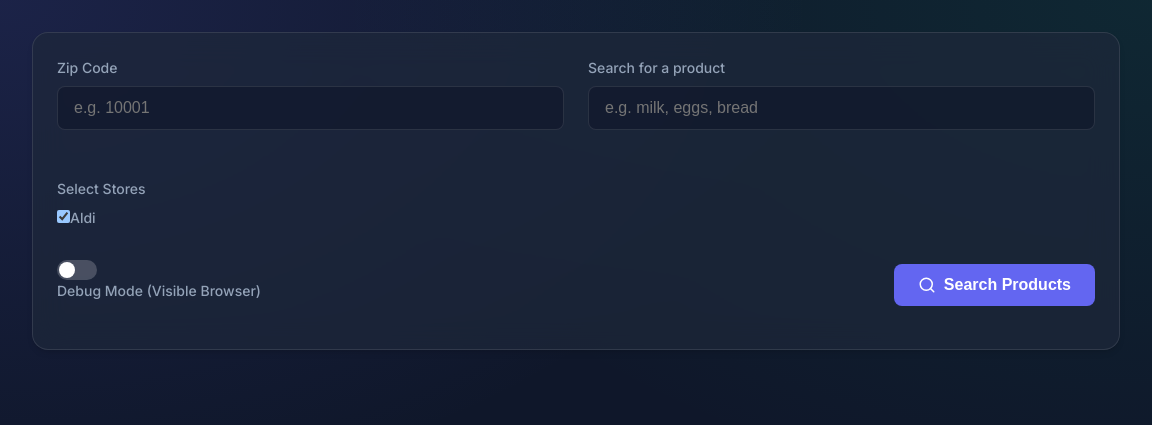
it: SearchForm Component › when_search_query_is_empty_disables_submit_or_shows_error
The width and height of the screenshot is (1152, 425).
Fill only zip
Type "10001" into the field labelled "Zip Code".
click(310, 108); type("10001")  # box [57,86,564,130]
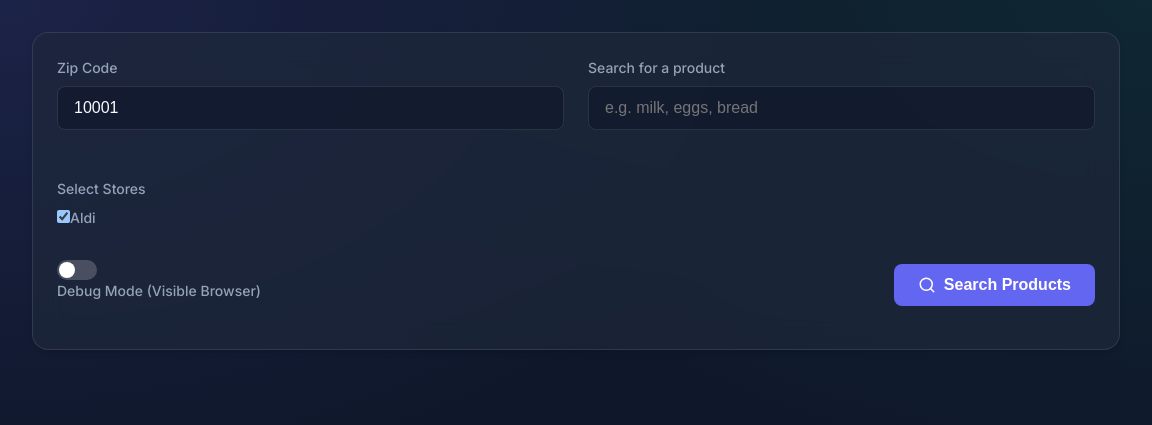
Click the button "Search Products".
click(994, 284)  # box [894,264,1095,306]
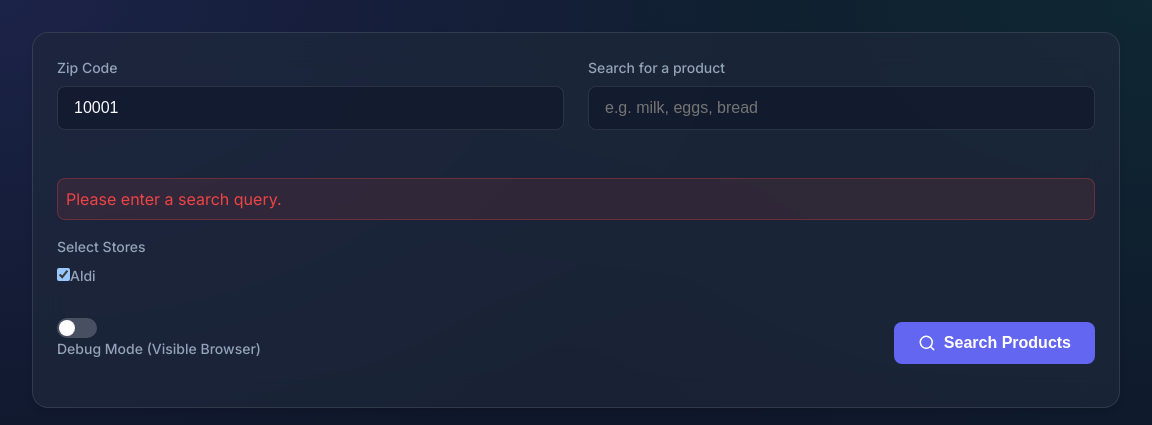
Check: the text "Please enter a search query." is shown, box [57,178,1095,220]
